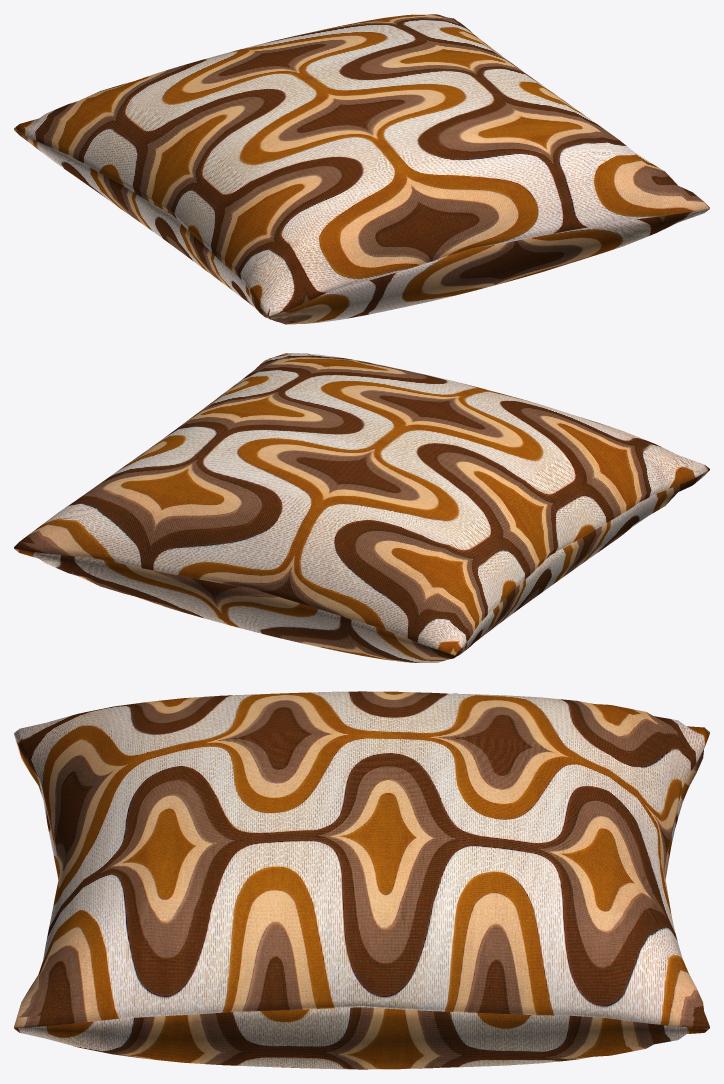
The model's file is cushion_throw_02.fbx.
The picture shows the model from 3 angles, top to bottom: view 1: azimuth 30°, elevation 25°; view 2: azimuth 150°, elevation 25°; view 3: azimuth 270°, elevation 25°; orthographic projection. The views are drawn at different scales.
Parts seen in each view (by area): view 1: cush_throw1:cushion_throw; view 2: cush_throw1:cushion_throw; view 3: cush_throw1:cushion_throw.
Part boxes in pixels (box(x1,y1,x2,y2)): cush_throw1:cushion_throw: box(14, 14, 709, 324); cush_throw1:cushion_throw: box(14, 353, 709, 662); cush_throw1:cushion_throw: box(14, 691, 709, 1069).
Bounding box in the file's own units: 0.4828 × 0.1855 × 0.4829.
Materials: 1 (1 with a texture image).
